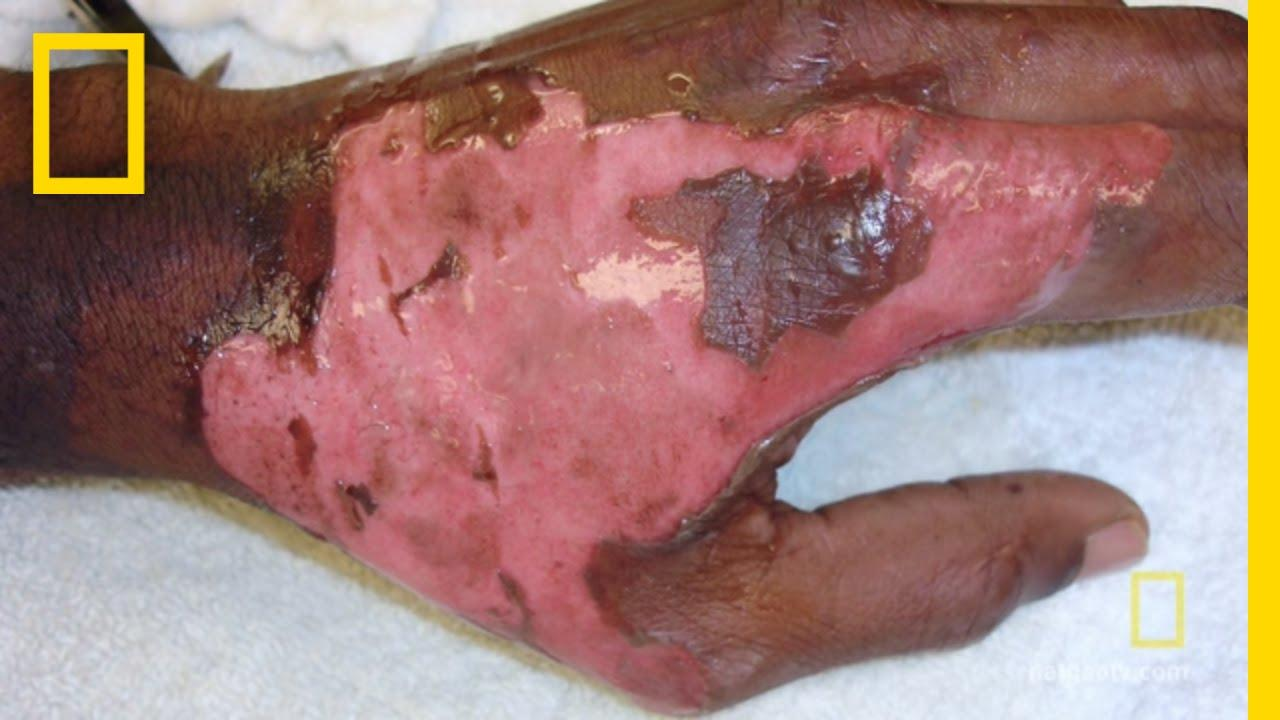burned-skin: (167, 25, 1204, 713)
